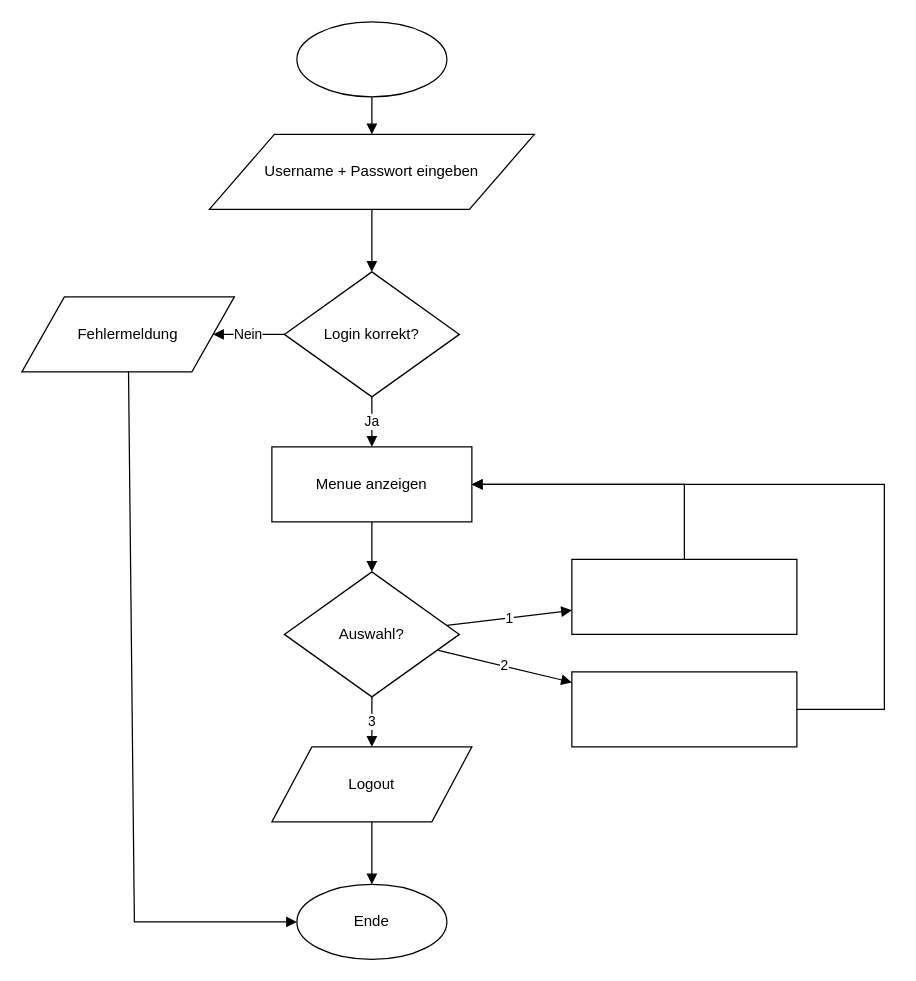
This 916x981 diagram has some shape labels left out. The shapes that lost their labels are listed below. From the top down, each one's centre as x and y in pixels, then its label:
At point (371, 59): "Start".
At point (684, 596): "Username aendern".
At point (684, 709): "Passwort aendern".
